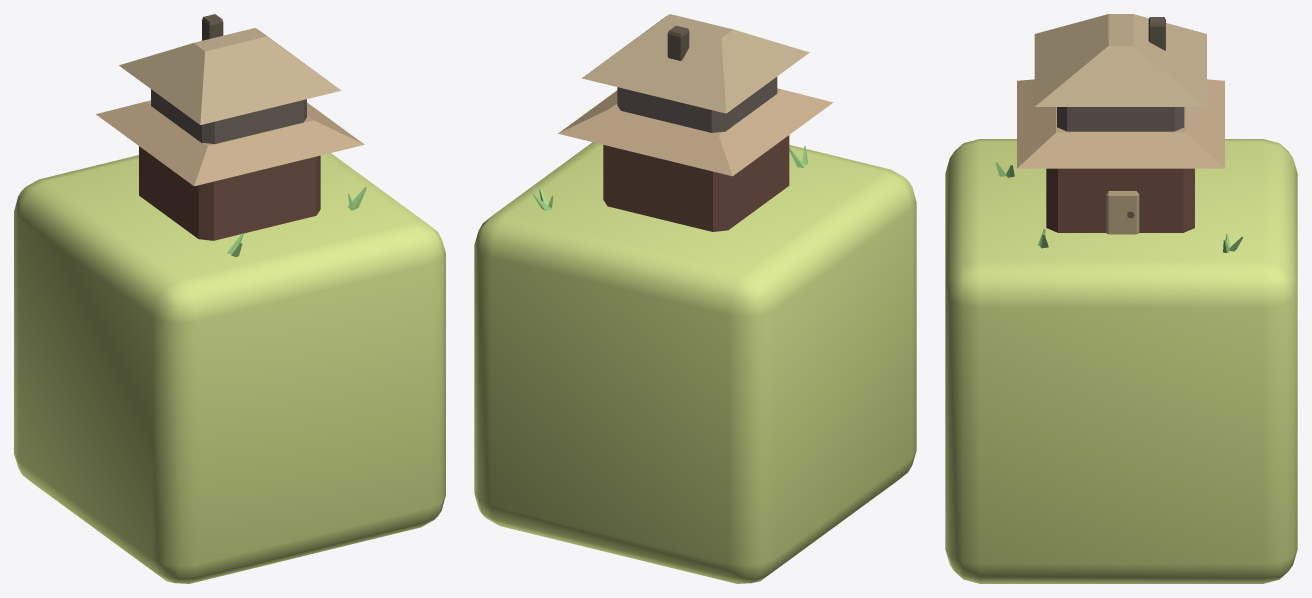
Rendered from village3.fbx.
3 views of the same model, side by side, from view 1: azimuth 30°, elevation 25°; view 2: azimuth 150°, elevation 25°; view 3: azimuth 270°, elevation 25° (orthographic). The views are drawn at different scales.
Parts seen in each view (by area): view 1: Cube.100, Cube.112, Cube.101, Cube.113, Cube.104; view 2: Cube.100, Cube.112, Cube.101, Cube.113, Cube.104, Cube.110; view 3: Cube.100, Cube.112, Cube.113, Cube.101, Cube.104, Cube.102, Cube.110.
Part boxes in pixels (box(x1,y1,x2,y2)): Cube.100: box(14, 153, 445, 583); Cube.112: box(119, 28, 341, 124); Cube.101: box(139, 146, 320, 240); Cube.113: box(96, 100, 364, 186); Cube.104: box(151, 89, 306, 143); Cube.100: box(474, 142, 916, 583); Cube.112: box(582, 14, 809, 113); Cube.101: box(603, 135, 789, 231); Cube.113: box(558, 88, 833, 176); Cube.104: box(617, 77, 777, 132); Cube.110: box(667, 25, 689, 60); Cube.100: box(945, 139, 1297, 583); Cube.112: box(1034, 14, 1206, 106); Cube.113: box(1017, 79, 1224, 168); Cube.101: box(1046, 168, 1194, 232); Cube.104: box(1057, 107, 1184, 131); Cube.102: box(1106, 191, 1139, 234); Cube.110: box(1148, 17, 1165, 50).
Bounding box in the file's own units: 200 × 314 × 200.
